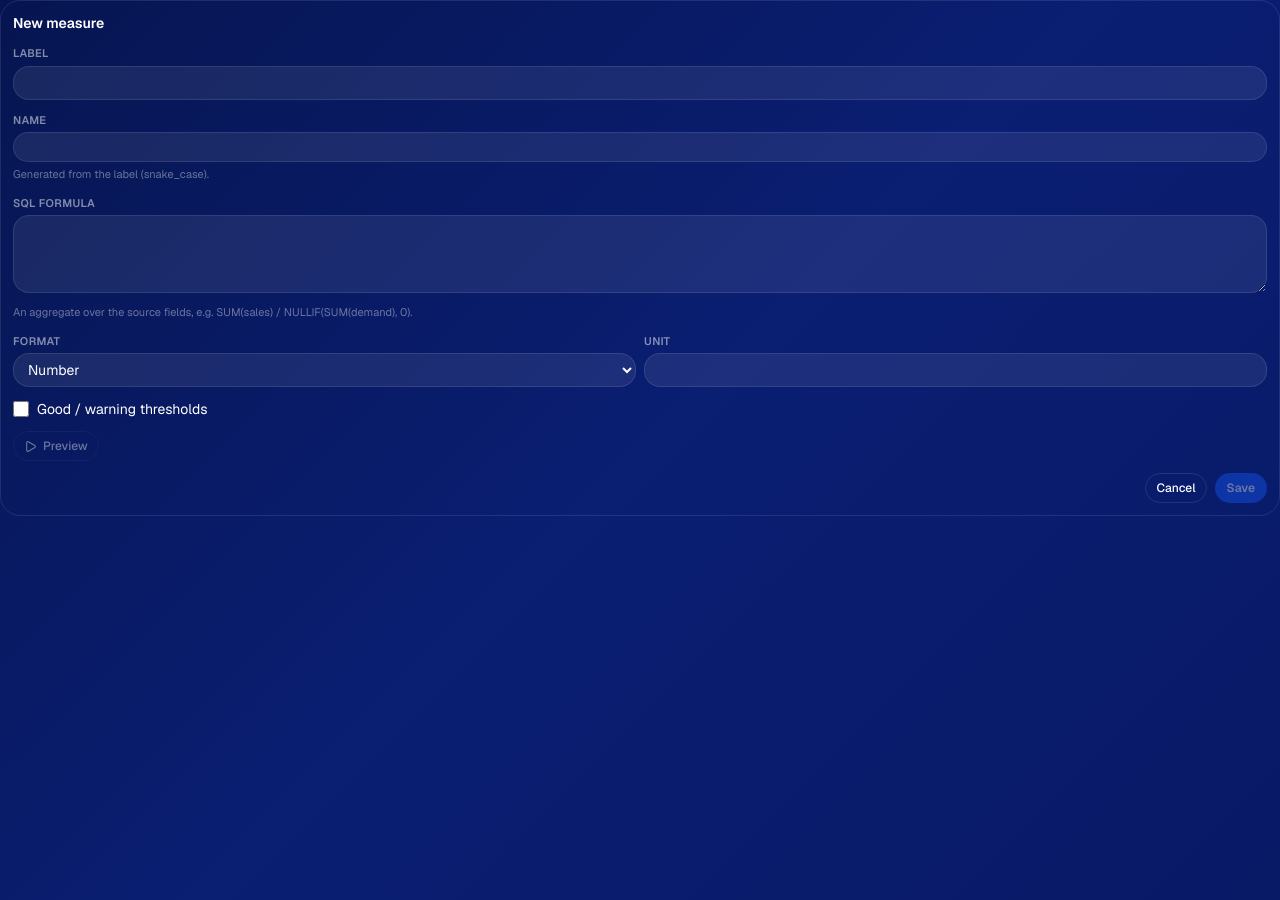
Test: MeasureEditor › shows the error of a failing formula (component error and request error)
The image size is (1280, 900).
Type "Bad" into the field labelled "Label".
click(640, 82); type("Bad")  # box [13, 66, 1267, 100]
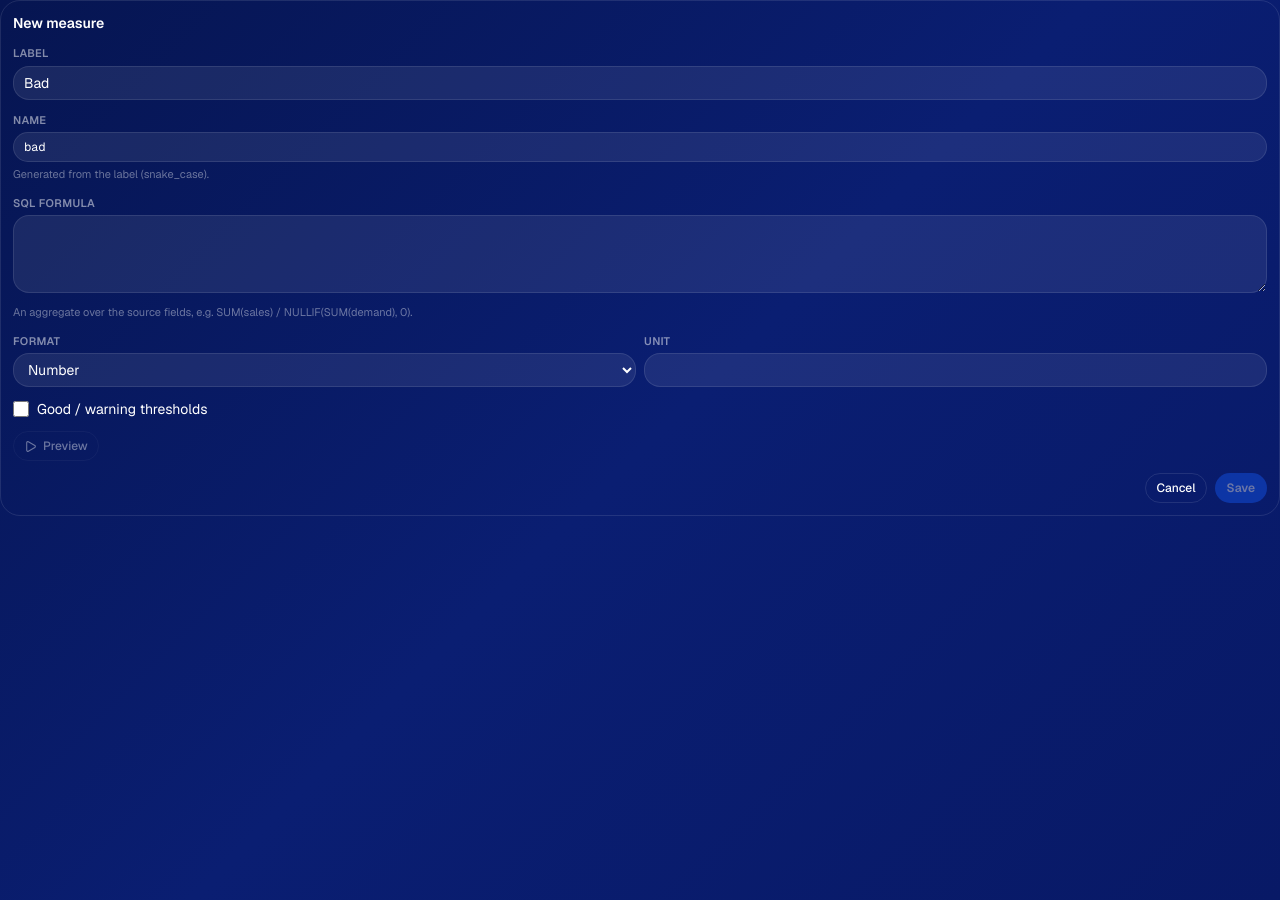
Type "foo" into the dropdown labelled "SQL formula".
click(640, 254); type("foo")  # box [13, 215, 1267, 293]
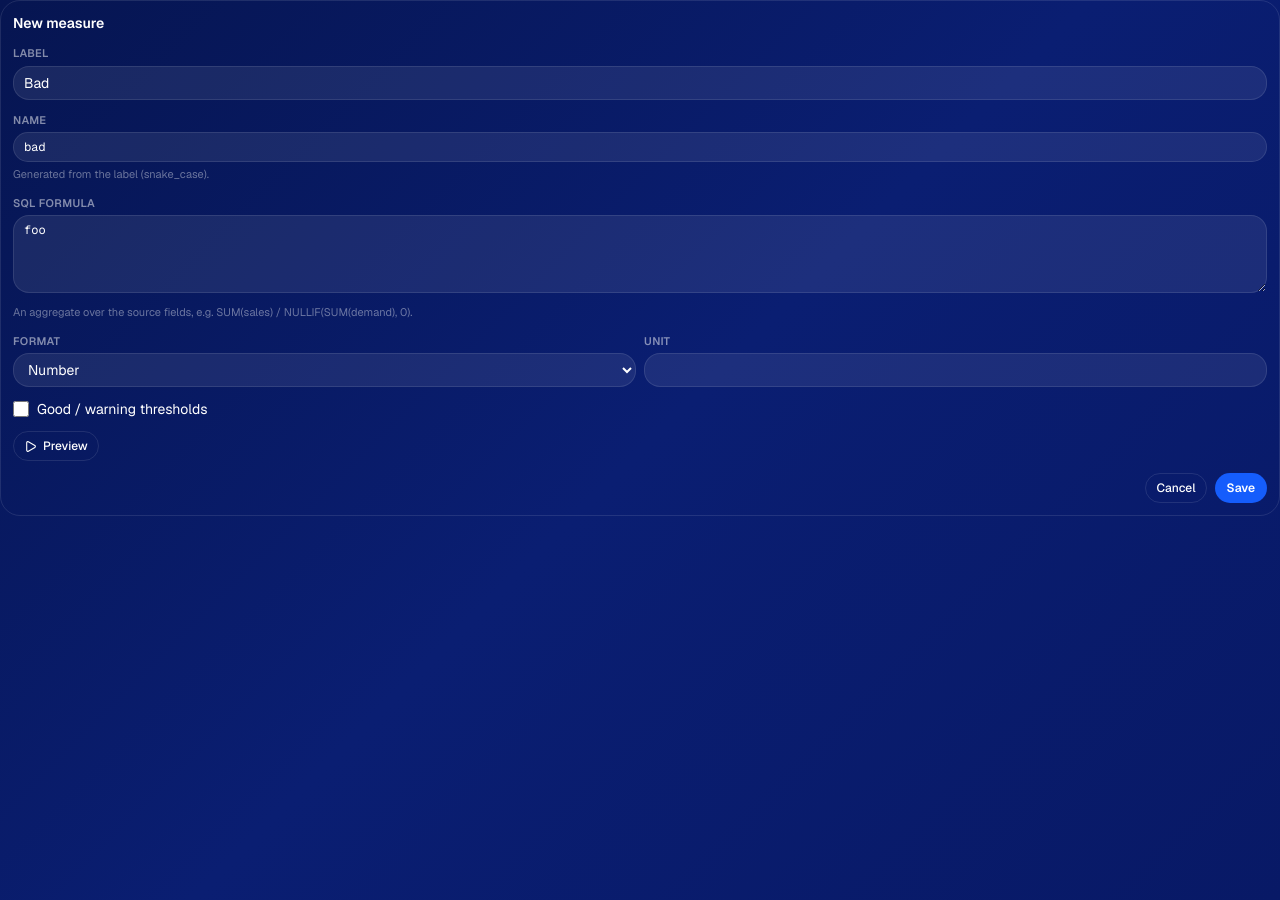
Click the button "Preview".
click(56, 446)  # box [13, 431, 99, 461]
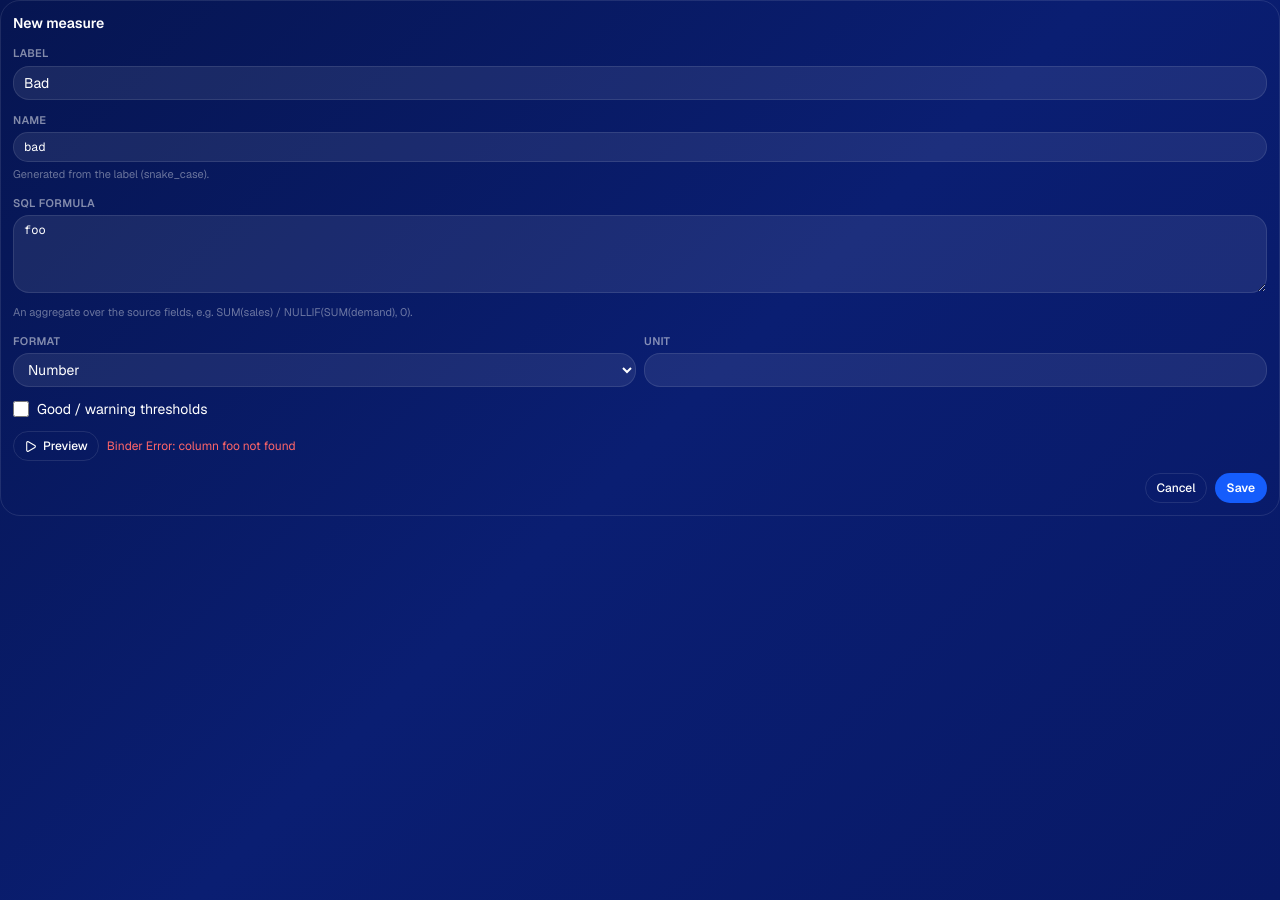
Expected: the message with test id "measure-preview-error" shows "Binder Error", [107, 438, 296, 454]
Click the button "Preview".
click(56, 446)  # box [13, 431, 99, 461]
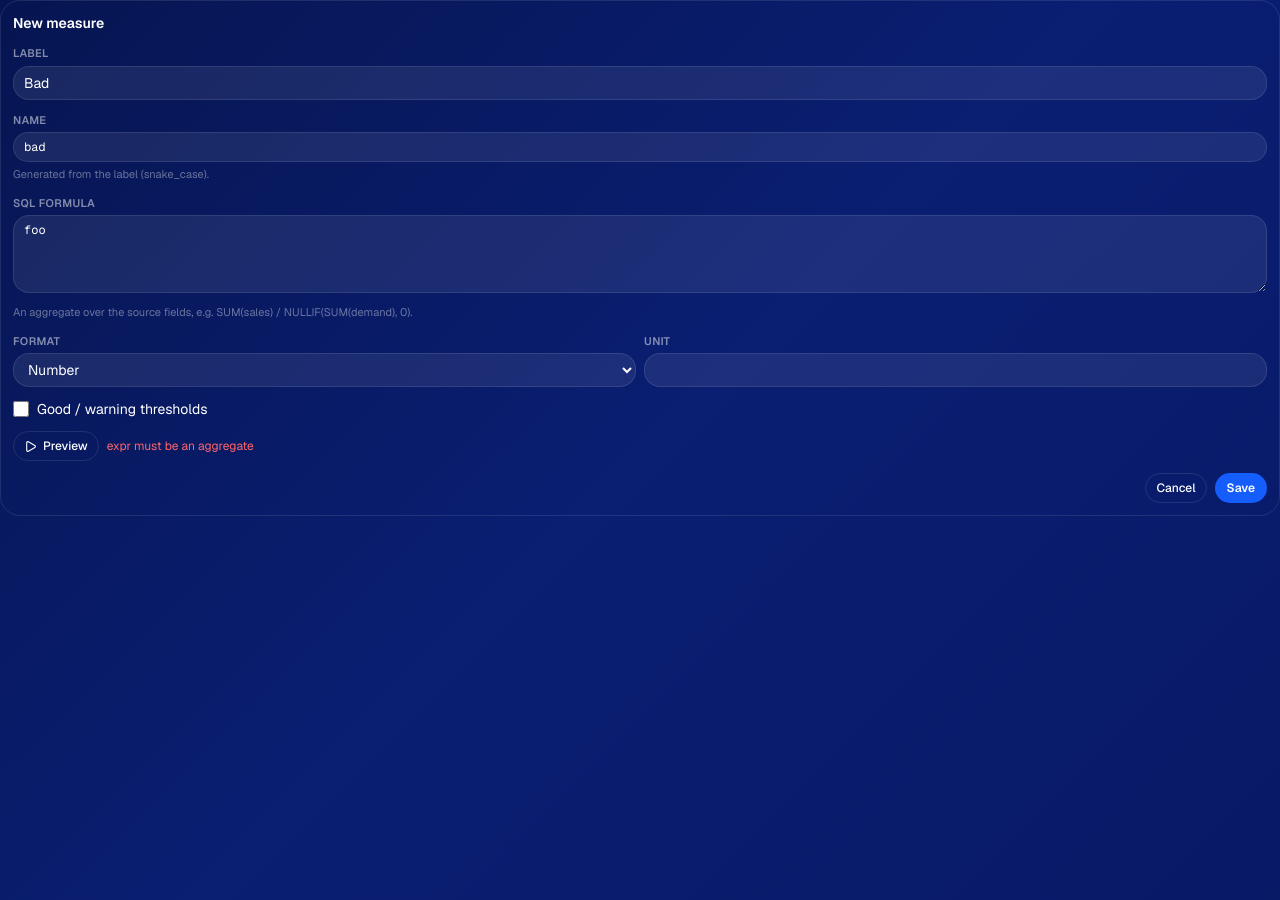
Expected: the message with test id "measure-preview-error" reads "expr must be an aggregate", [107, 438, 254, 454]
